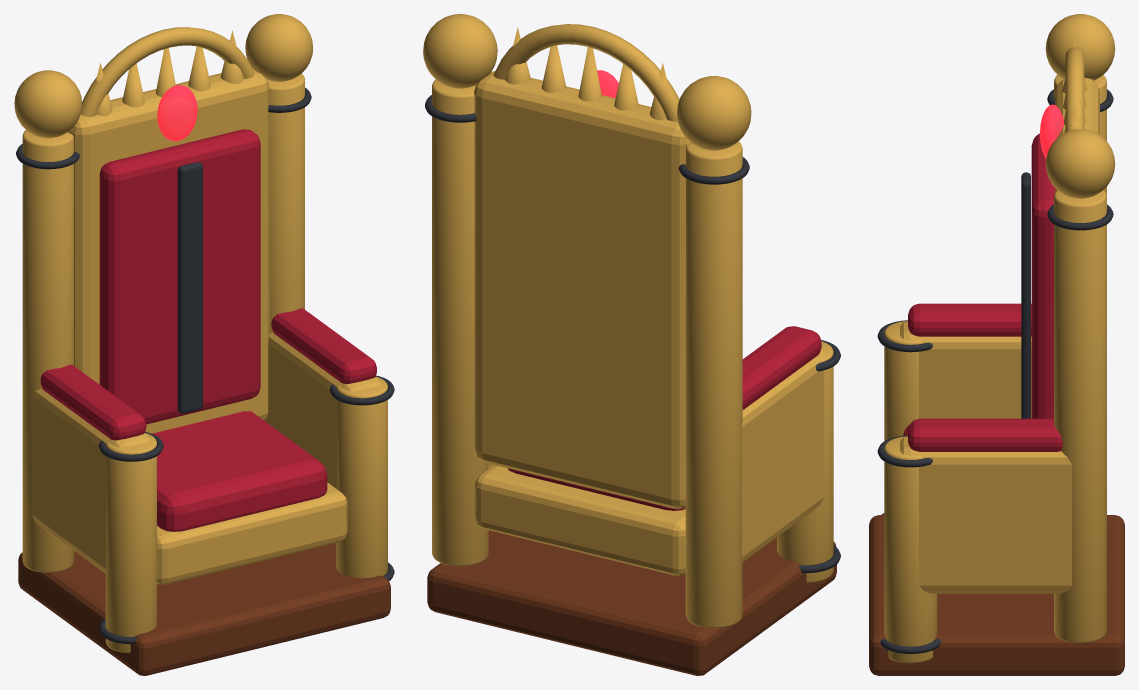
File: royal_throne.glb
3 views of the same model, side by side, from view 1: azimuth 30°, elevation 25°; view 2: azimuth 150°, elevation 25°; view 3: azimuth 270°, elevation 25° (orthographic). The views are drawn at different scales.
Visible parts, largest first — view 1: Throne_BackCushion, Throne_BasePlinth, Throne_BackFrame, Throne_LeftBackColumn, Throne_SeatCushion, Throne_LeftArmSupport, Throne_SeatFrame, Throne_LeftFrontColumn, Throne_RightFrontColumn, Throne_RightBackColumn, Throne_RightArmSupport, Throne_BackCentreTrim (+12 smaller); view 2: Throne_BackFrame, Throne_BasePlinth, Throne_LeftBackColumn, Throne_RightBackColumn, Throne_SeatFrame, Throne_LeftArmSupport, Throne_CrownArch, Throne_LeftFinial, Throne_RightFinial, Throne_LeftFrontColumn, Throne_LeftArmCushion, Throne_CrownSpike_3 (+4 smaller); view 3: Throne_RightArmSupport, Throne_RightBackColumn, Throne_BasePlinth, Throne_LeftArmSupport, Throne_RightFrontColumn, Throne_BackCushion, Throne_RightArmCushion, Throne_LeftArmCushion, Throne_RightFinial, Throne_LeftFrontColumn, Throne_LeftFinial, Throne_BackCentreTrim (+8 smaller).
Part boxes in pixels (x1,y1,x2,y2): Throne_BackCushion: (99, 129, 260, 424); Throne_BasePlinth: (18, 543, 390, 675); Throne_BackFrame: (68, 68, 269, 433); Throne_LeftBackColumn: (22, 130, 74, 572); Throne_SeatCushion: (152, 411, 327, 531); Throne_LeftArmSupport: (31, 388, 150, 573); Throne_SeatFrame: (157, 482, 347, 584); Throne_LeftFrontColumn: (105, 433, 156, 653); Throne_RightFrontColumn: (336, 377, 387, 578); Throne_RightBackColumn: (267, 73, 304, 332); Throne_RightArmSupport: (265, 332, 381, 488); Throne_BackCentreTrim: (177, 162, 202, 413); Throne_BackFrame: (474, 71, 691, 508); Throne_BasePlinth: (427, 530, 836, 675); Throne_LeftBackColumn: (685, 141, 742, 628); Throne_RightBackColumn: (432, 79, 488, 566); Throne_SeatFrame: (475, 465, 685, 575); Throne_LeftArmSupport: (742, 347, 826, 561); Throne_CrownArch: (493, 24, 679, 121); Throne_LeftFinial: (677, 76, 751, 150); Throne_RightFinial: (423, 14, 497, 88); Throne_LeftFrontColumn: (777, 341, 833, 583); Throne_LeftArmCushion: (742, 326, 821, 409); Throne_CrownSpike_3: (578, 47, 601, 101); Throne_RightArmSupport: (900, 436, 1071, 593); Throne_RightBackColumn: (1054, 190, 1106, 643); Throne_BasePlinth: (869, 515, 1124, 675); Throne_LeftArmSupport: (900, 321, 1031, 418); Throne_RightFrontColumn: (884, 436, 937, 663); Throne_BackCushion: (1031, 133, 1055, 418); Throne_RightArmCushion: (908, 418, 1062, 451); Throne_LeftArmCushion: (908, 303, 1031, 336); Throne_RightFinial: (1045, 129, 1115, 198); Throne_LeftFrontColumn: (884, 321, 922, 440); Throne_LeftFinial: (1045, 14, 1115, 80); Throne_BackCentreTrim: (1021, 172, 1030, 418).
Bounding box in the file's own units: 1.23 × 2.22 × 0.92.
